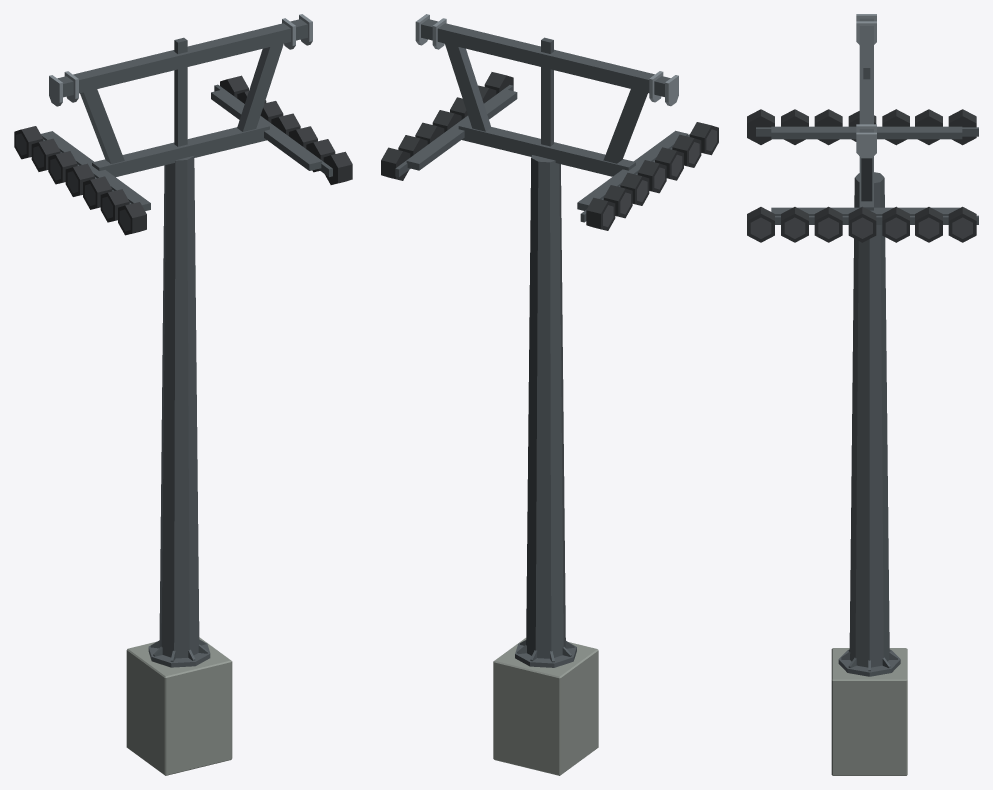
The model's file is SM_Prop_Lift_Pillar_01.glb.
3 renders of one model, left to right at view 1: azimuth 30°, elevation 25°; view 2: azimuth 150°, elevation 25°; view 3: azimuth 270°, elevation 25°, orthographic. The views are drawn at different scales.
Parts seen in each view (by area): view 1: SM_Prop_Lift_Pillar_01; view 2: SM_Prop_Lift_Pillar_01; view 3: SM_Prop_Lift_Pillar_01.
Boxes of the visible parts, left/top/right/bottom form: SM_Prop_Lift_Pillar_01: left=14, top=14, right=352, bottom=775; SM_Prop_Lift_Pillar_01: left=381, top=14, right=718, bottom=775; SM_Prop_Lift_Pillar_01: left=747, top=14, right=978, bottom=775.
Size of the model in its own units: 3.81 by 10.26 by 3.1.
Materials: 1 (1 with a texture image).
